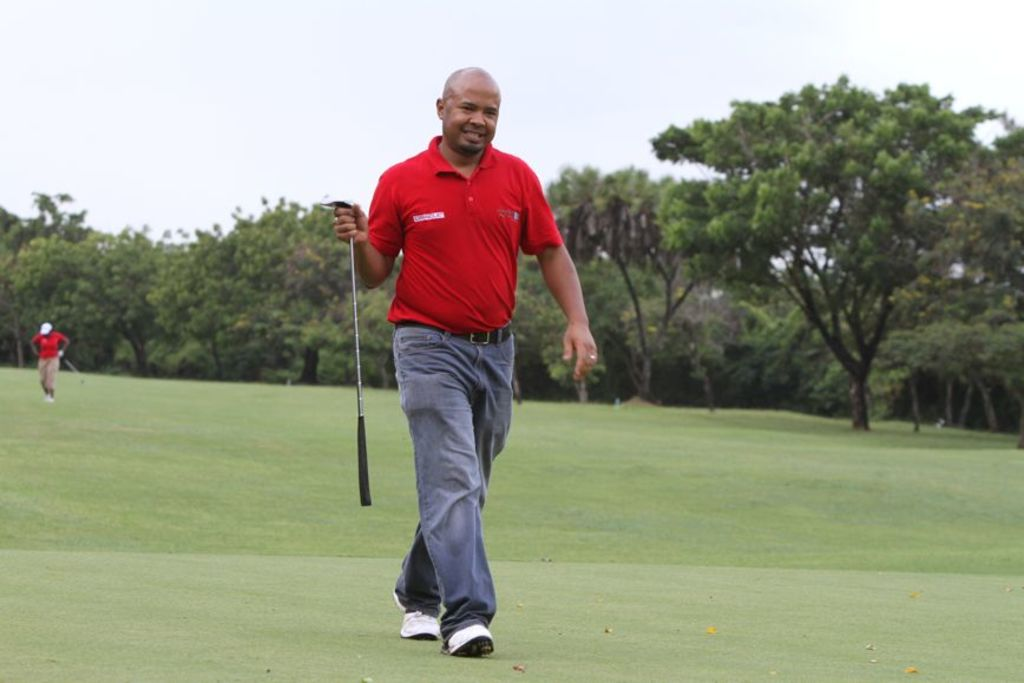Tree: (0, 72, 1023, 447)
